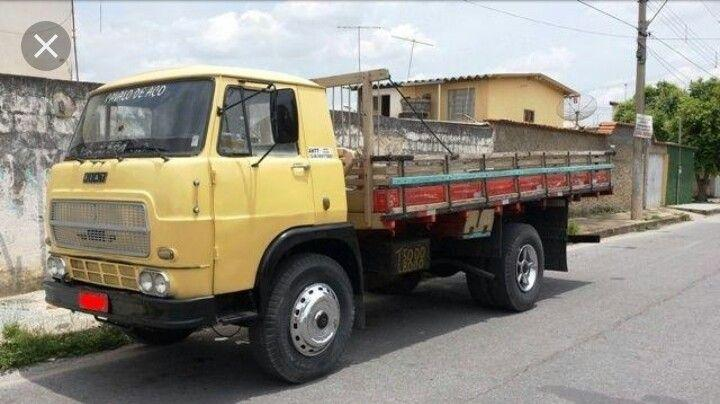vehicle: (43, 65, 616, 383)
